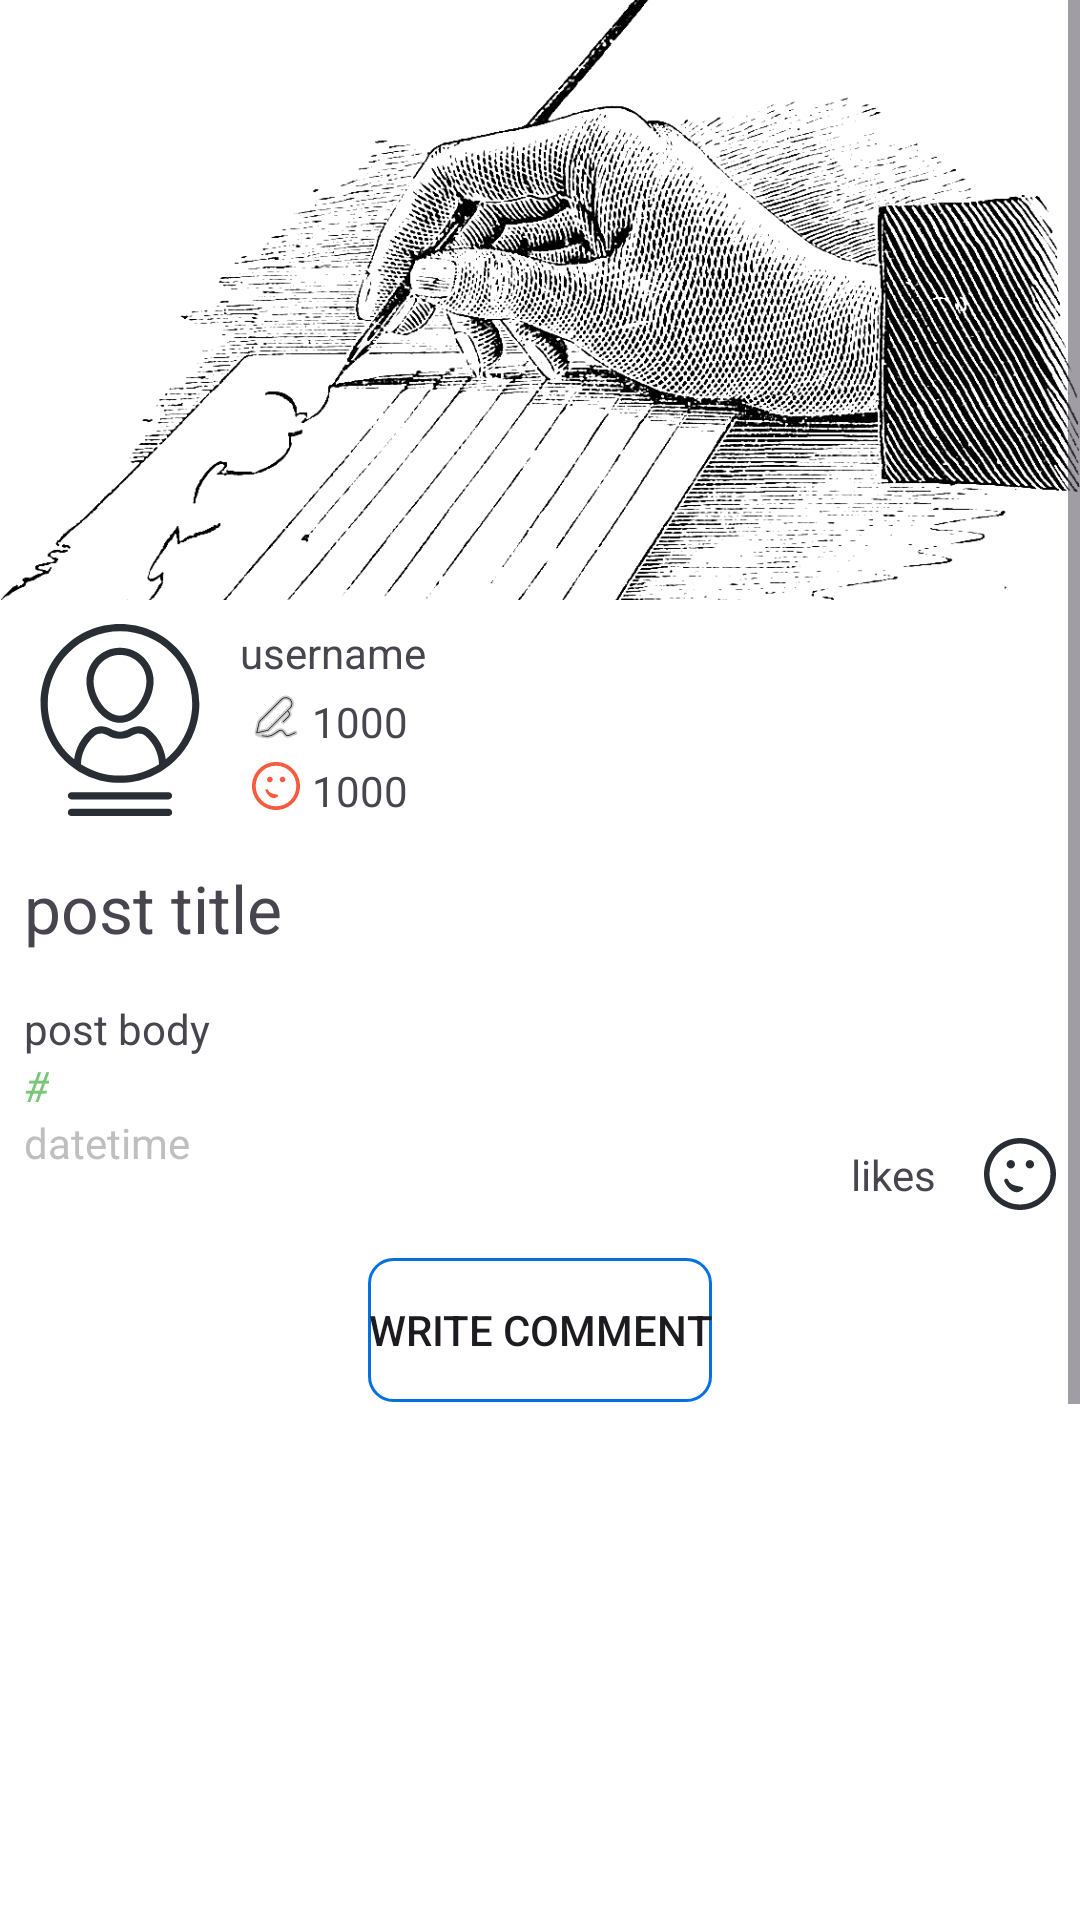

Screen size 1080*1920. Icon name, then its box in pixels as [x1,y1,x2,y2]:
like: [252,762,300,810]
posting: [255,696,297,739]
